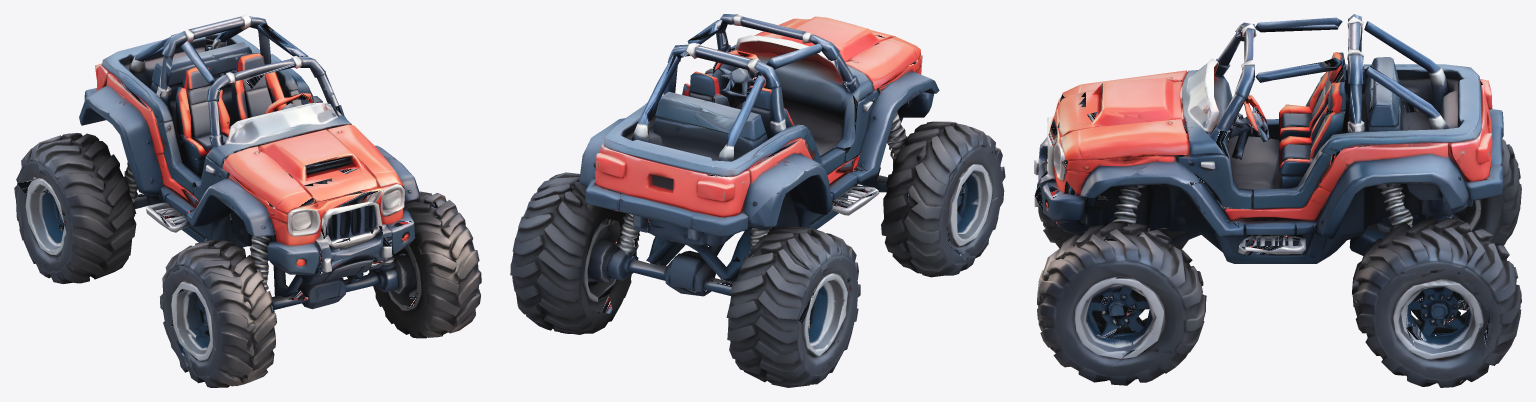
Rendered from titan-mobile.glb.
3 views of the same model, side by side, from view 1: azimuth 30°, elevation 25°; view 2: azimuth 150°, elevation 25°; view 3: azimuth 270°, elevation 25° (orthographic). The views are drawn at different scales.
Visible parts, largest first — view 1: model; view 2: model; view 3: model.
Part boxes in pixels (box(x1,y1,x2,y2)): model: box(14, 14, 481, 387); model: box(510, 14, 1005, 387); model: box(1034, 14, 1521, 387).
Bounding box in the file's own units: 1.36 × 1.23 × 1.89.
1 material, 1 textured.
